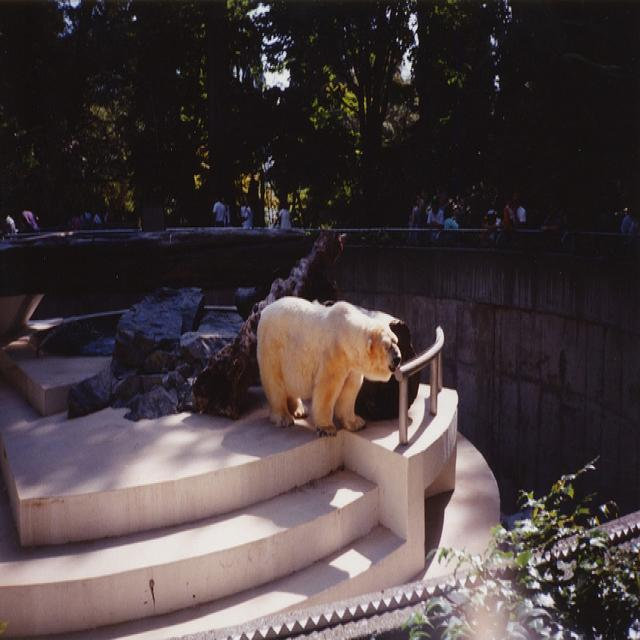Bear: (257, 282, 405, 436)
